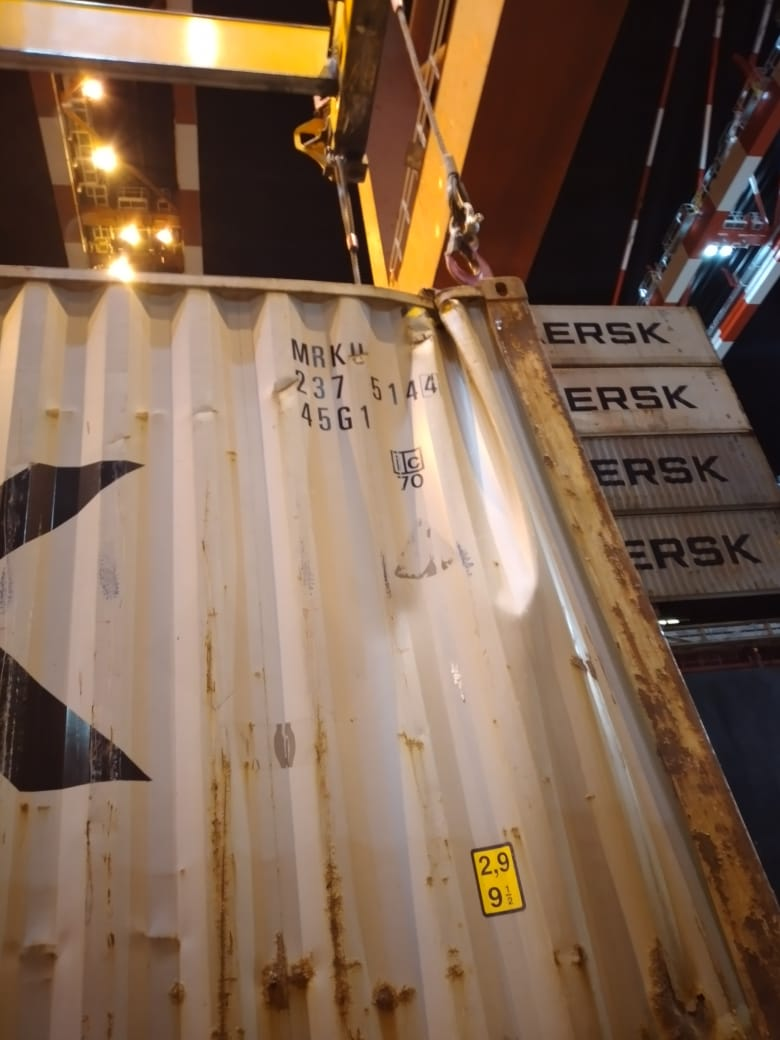bulged: (385, 286, 548, 574)
dented: (45, 374, 311, 437)
rust: (269, 948, 425, 1027), (636, 935, 739, 1030)
